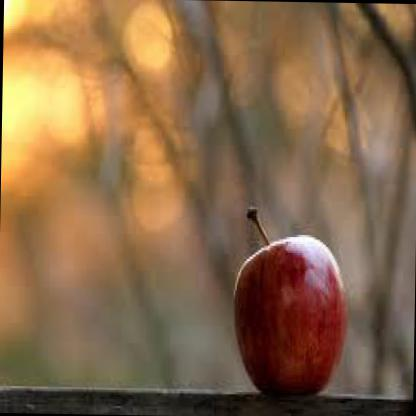apple: (231, 208, 350, 395)
